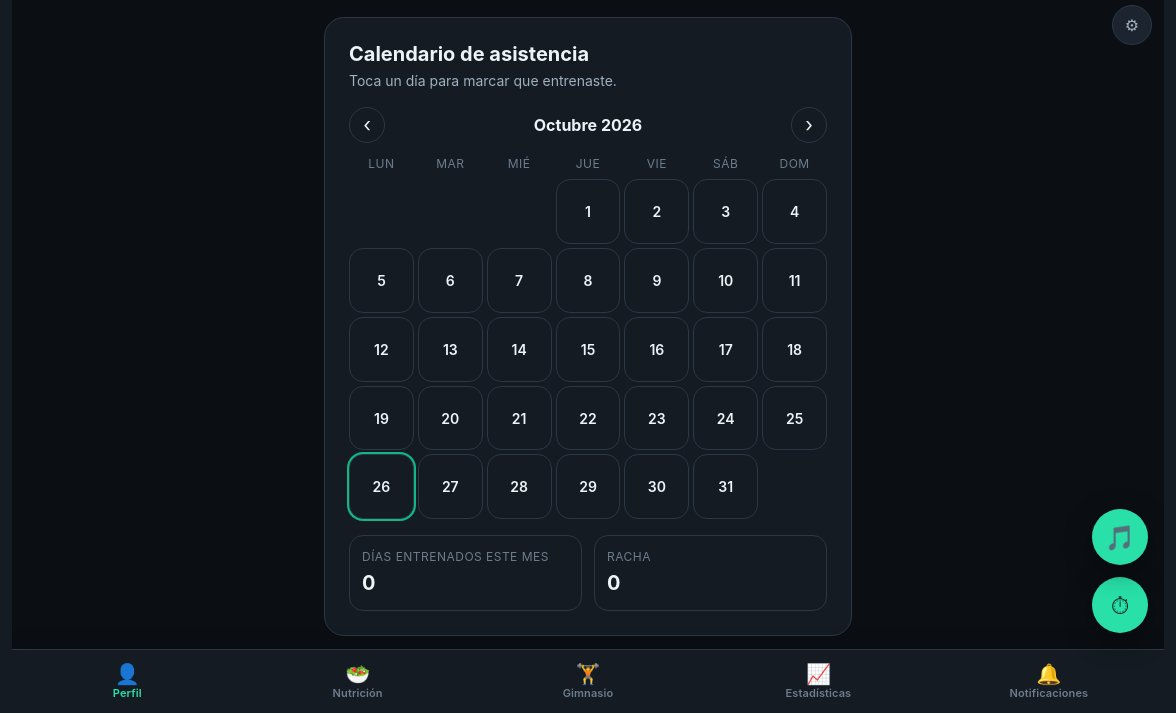
Notificaciones · pesajes semanal y mensual › ajustes antiguos sin pesajes muestran los defaults sin romper
Click the button "🔔 Notificaciones" at (1049,682), box [934,650,1164,712]
(page scrolled)
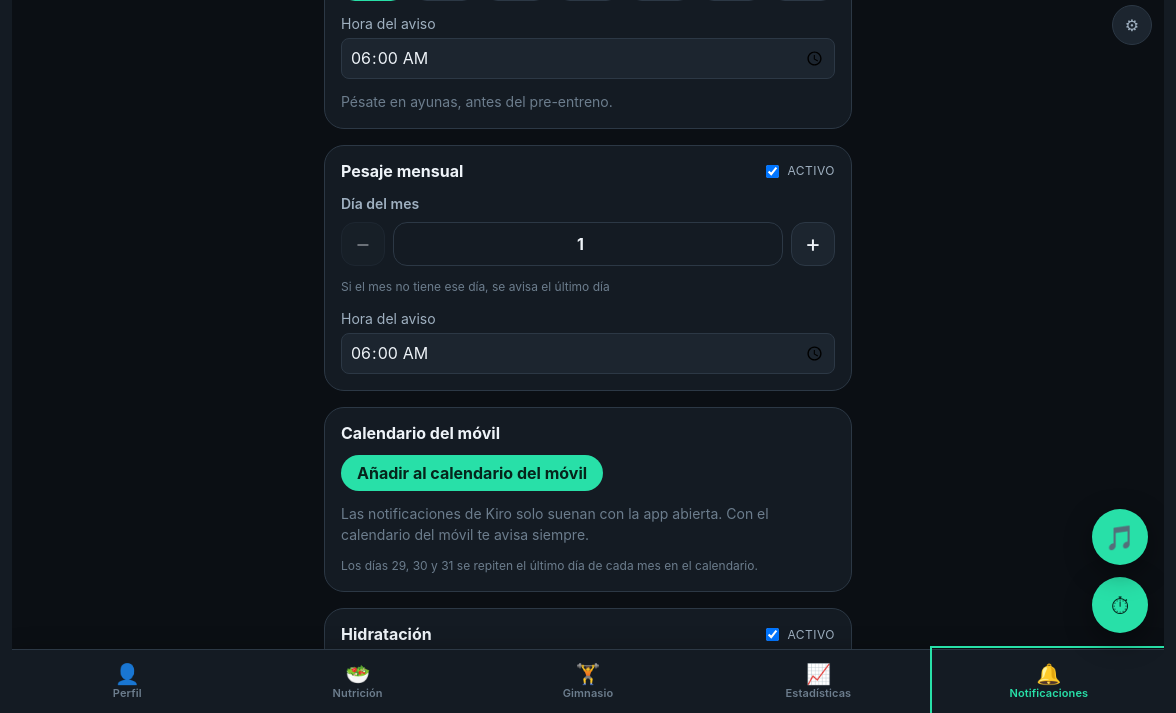
Expected: the number field labelled "Día del mes" holds "1", [393,222,783,266]
Expected: the time field labelled "Hora del aviso" below "Día del mes" holds "06:00", [341,333,835,374]
